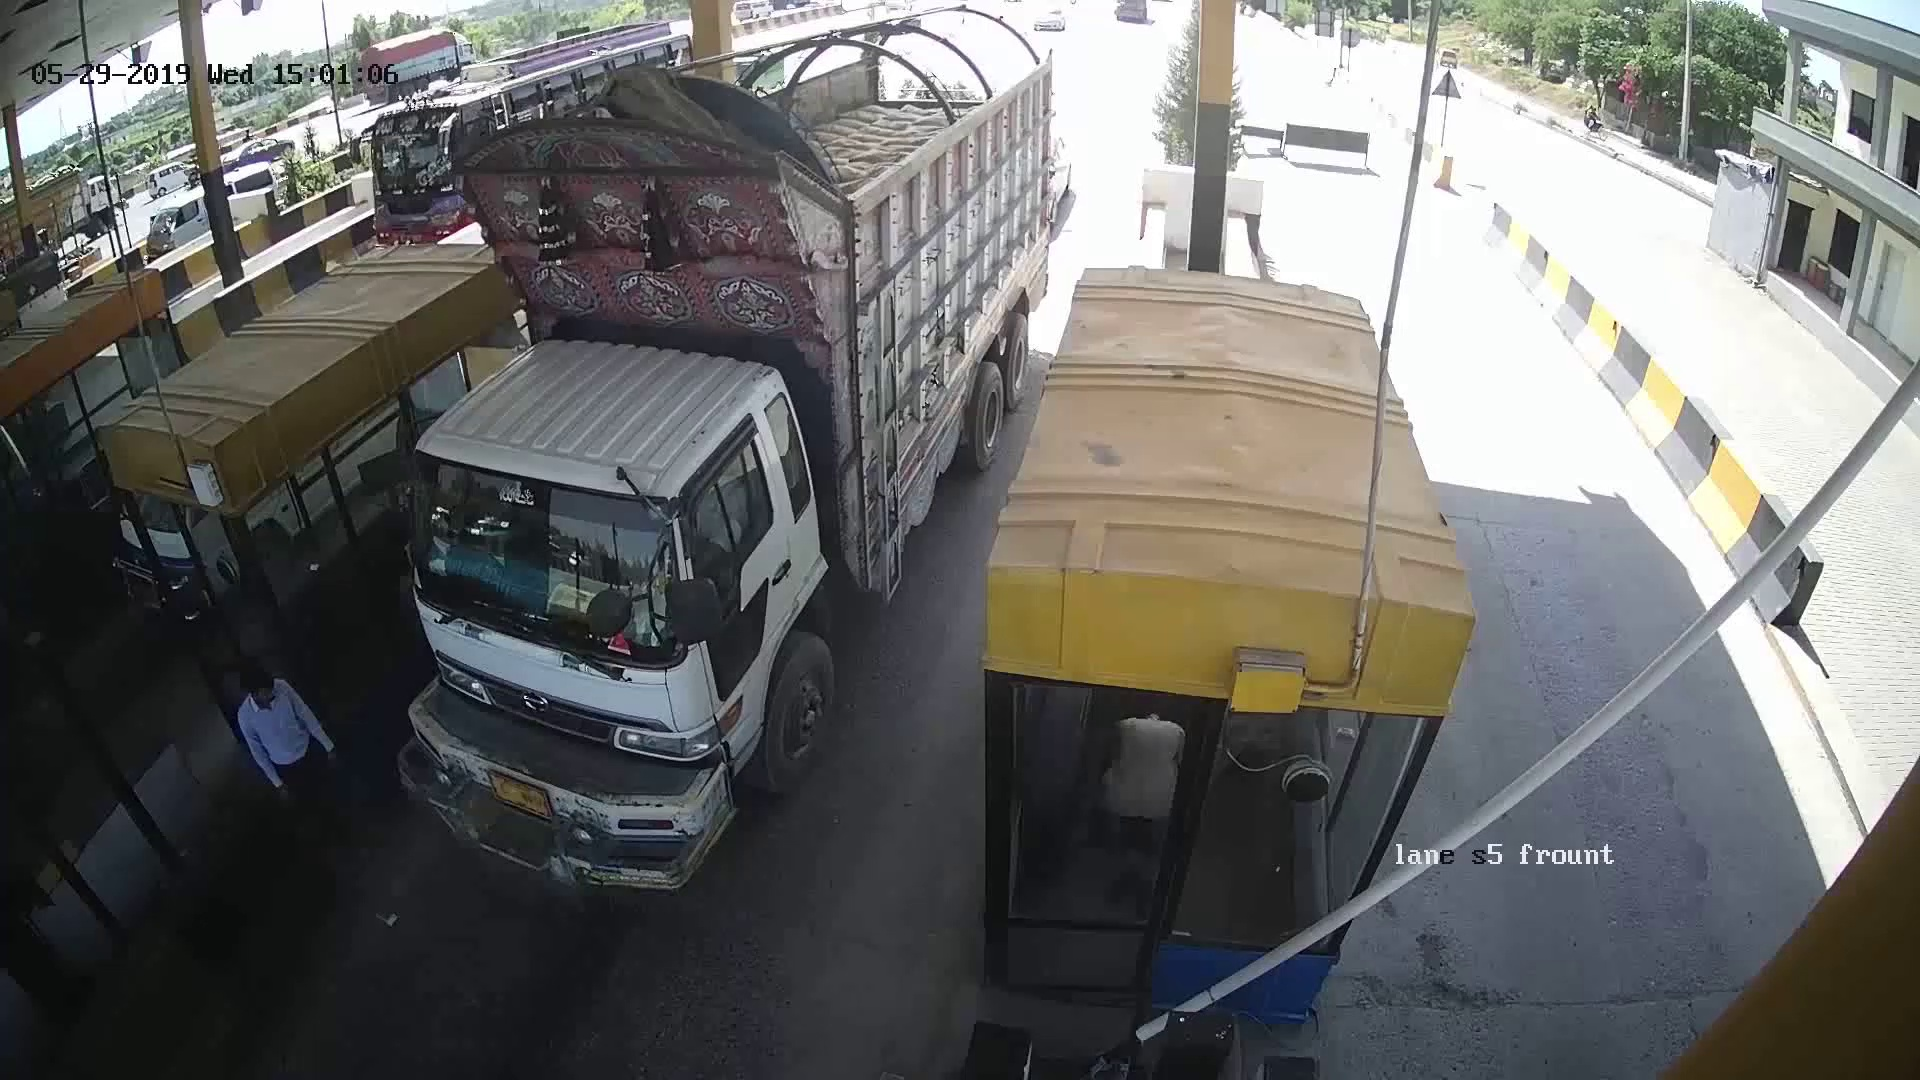truck: (467, 61, 986, 837)
